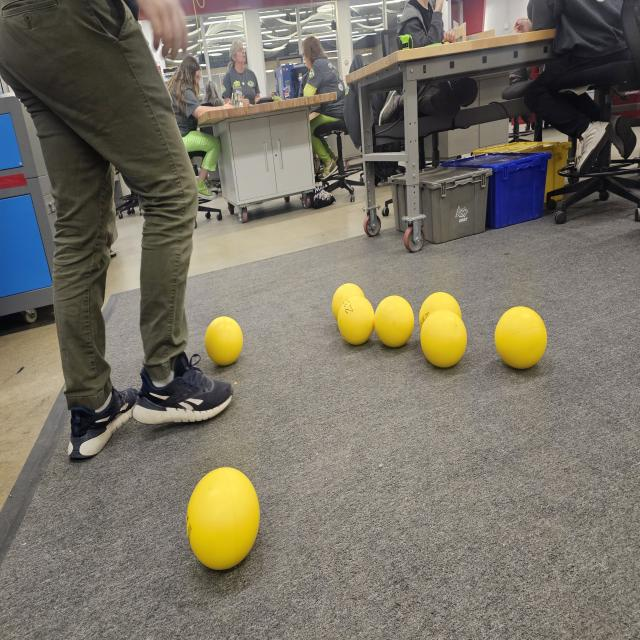Fuel: (187, 465, 260, 569), (495, 306, 547, 369), (421, 310, 467, 368), (375, 294, 415, 348), (420, 291, 462, 339), (206, 316, 244, 364), (338, 297, 374, 342), (333, 282, 364, 325)
